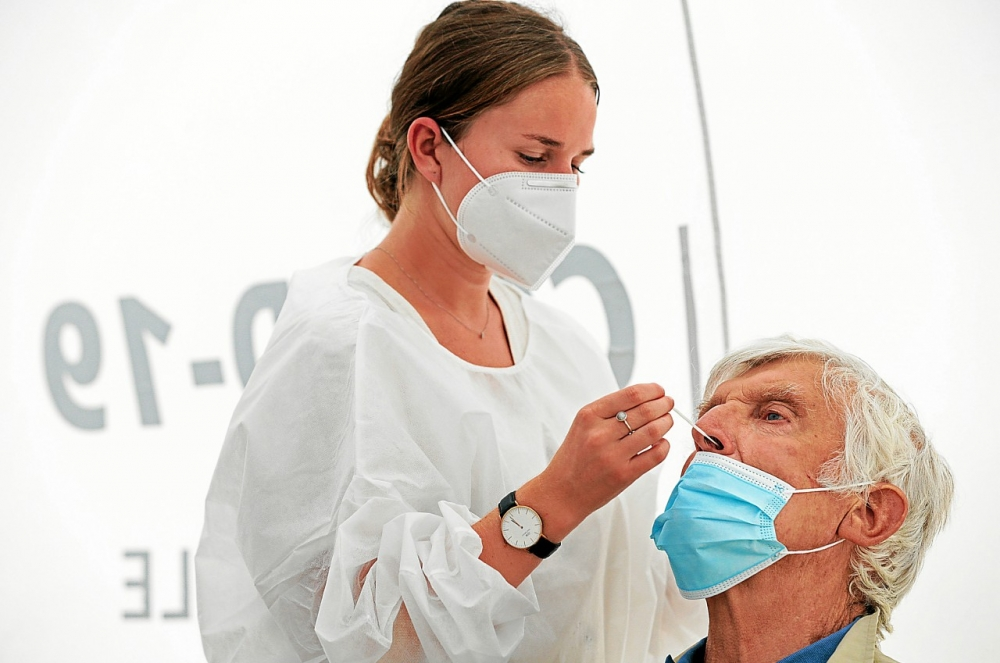with_incorrect_mask: (686, 383, 831, 524)
with_mask: (443, 94, 587, 261)
